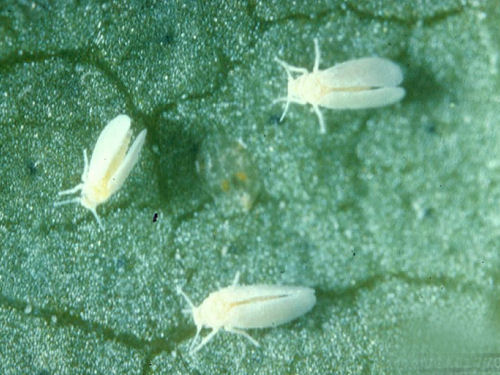whitefly: (273, 38, 408, 134), (177, 275, 319, 348), (61, 113, 149, 225)
